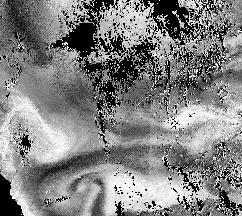CE: (66, 166, 107, 204)
